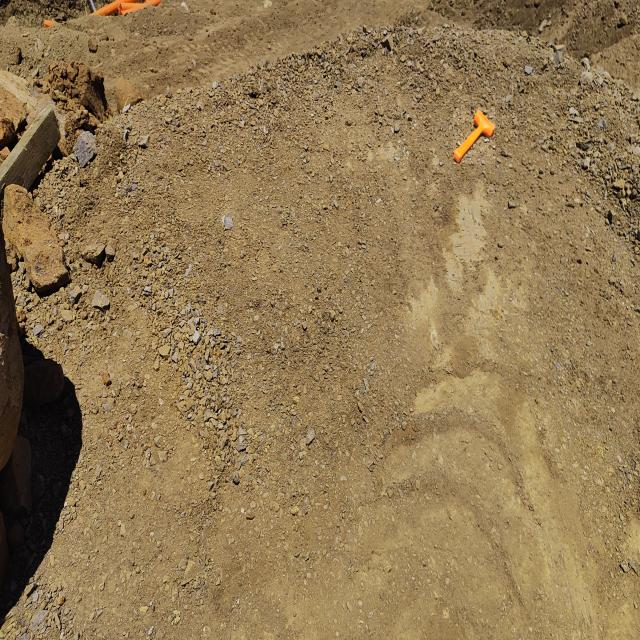Orange_hammer: (453, 108, 495, 164)
